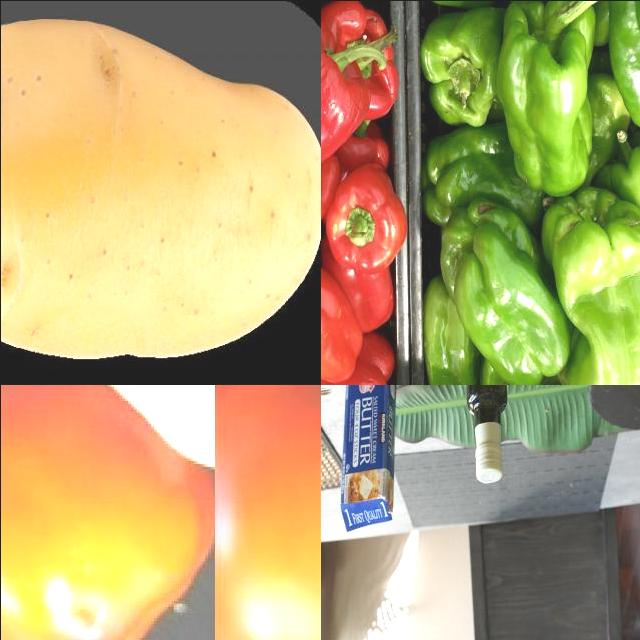bell_pepper: (438, 200, 564, 385), (502, 1, 606, 200), (541, 199, 640, 385), (321, 13, 385, 196), (328, 169, 404, 280), (321, 269, 364, 385)
potato: (1, 21, 321, 360)
tomato: (1, 385, 215, 640), (215, 385, 321, 640)
